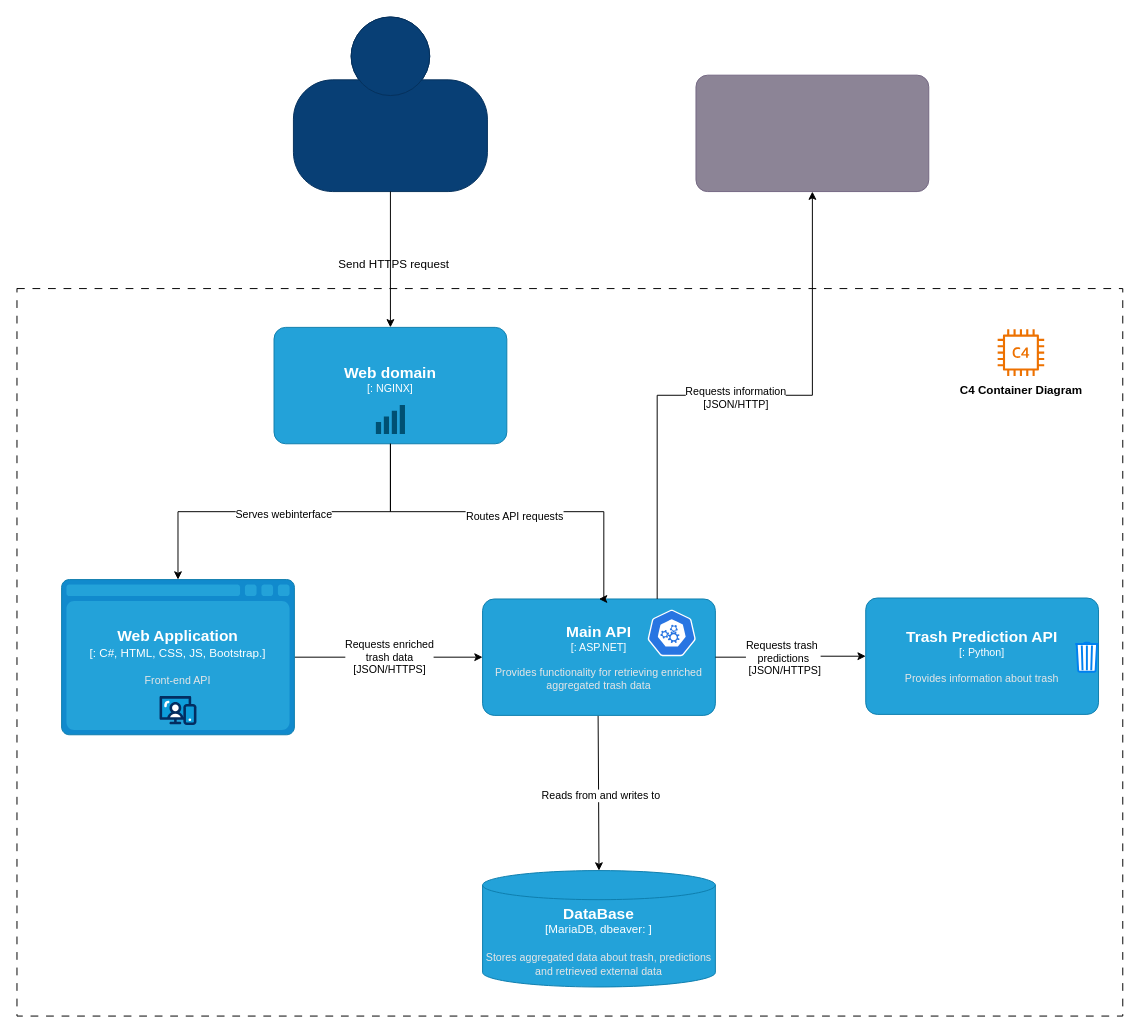
The diagram is 1140 pixels wide and 1033 high, and some of its shapes have lost their labels. Here are the shapes that lost their labels. From the top down, the centre of each, then its label:
At [389,104]: "Person name [Person] User/government employee".
At [812,133]: "External API [] Open streetmap (Point of Interests)".
